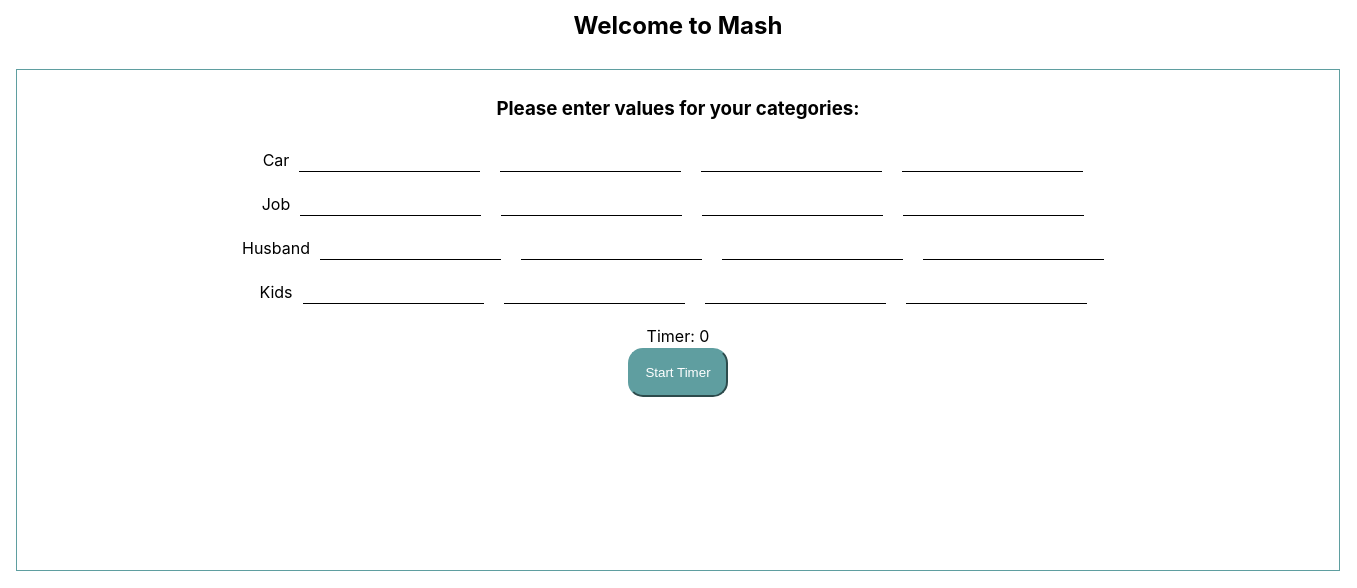
Test case: it displays elimination button
Click the button "Start Timer" at (678, 373), box [628, 348, 728, 397]
Wait 1000 ms
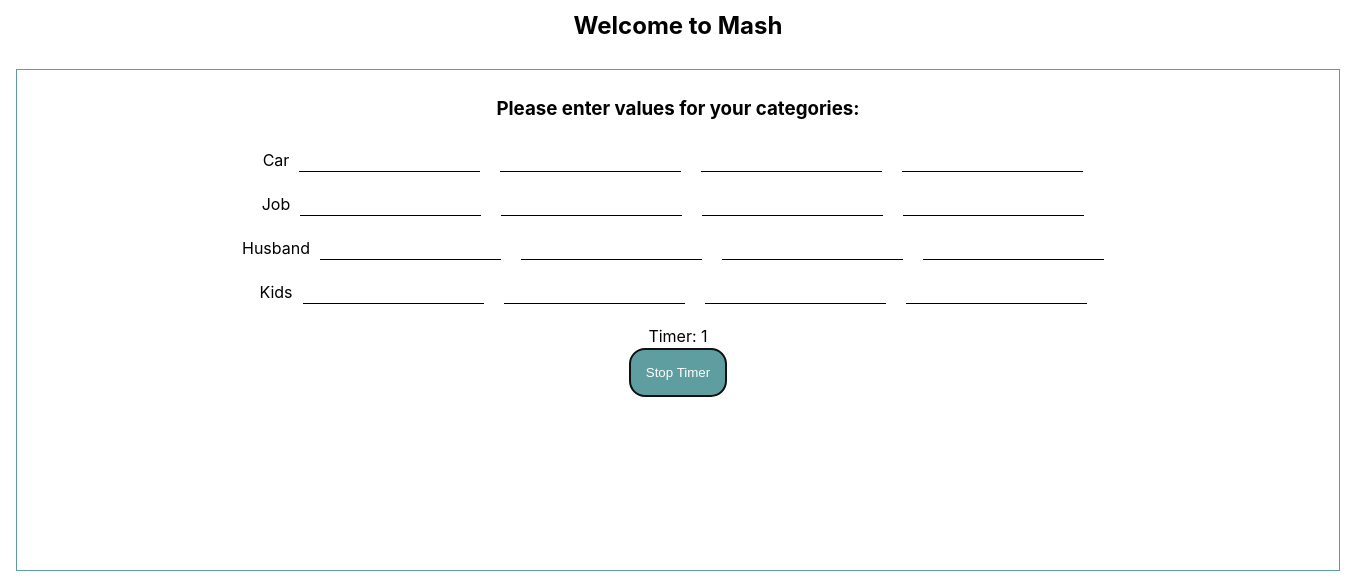
Result: the text "Timer: 1" is shown at [648, 326, 708, 346]
Click the button "Stop Timer" at (678, 373), box [629, 348, 727, 397]
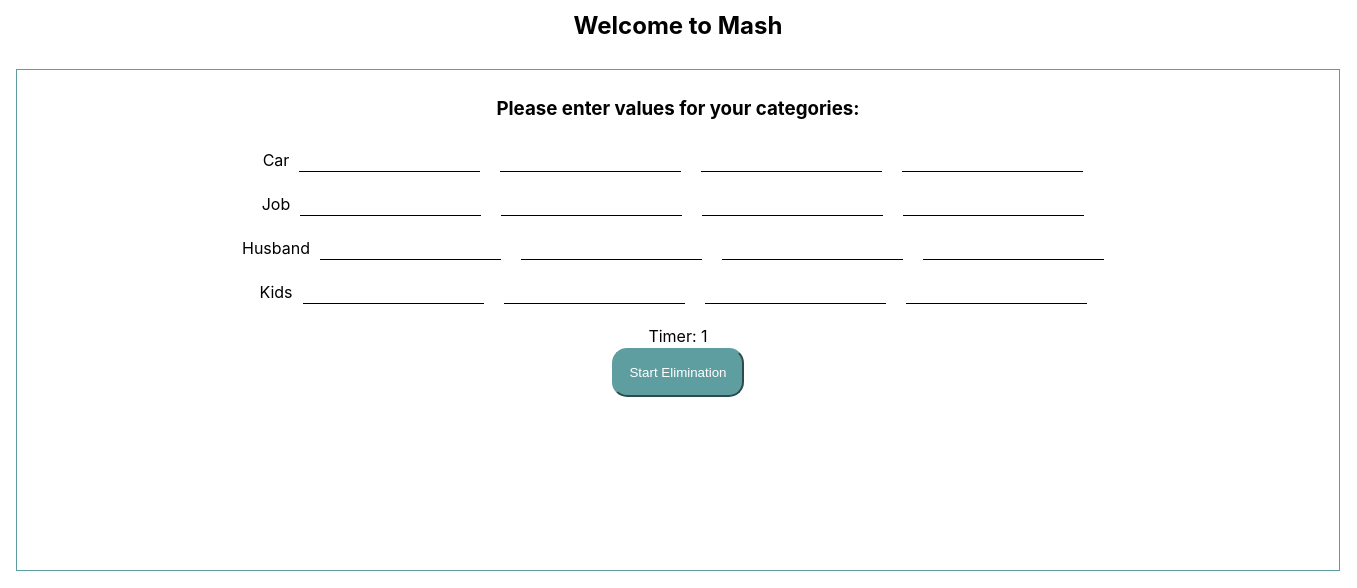
Result: the button "Start Elimination" is shown at [612, 348, 744, 397]
